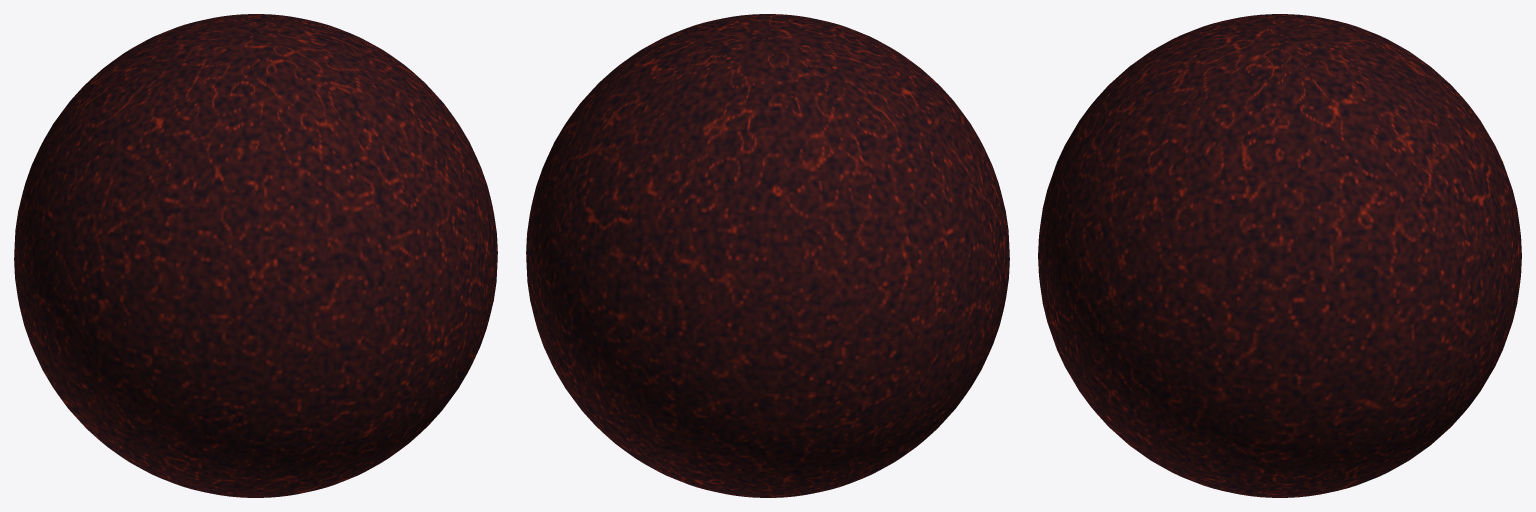
Rendered from planeta-vulcanico.glb.
3 renders of one model, left to right at view 1: azimuth 30°, elevation 25°; view 2: azimuth 150°, elevation 25°; view 3: azimuth 270°, elevation 25°, orthographic.
Visible parts, largest first — view 1: Planeta · vulcanico; view 2: Planeta · vulcanico; view 3: Planeta · vulcanico.
Boxes of the visible parts, box(x1,y1,x2,y2) form: Planeta · vulcanico: box(14, 14, 497, 497); Planeta · vulcanico: box(526, 14, 1009, 497); Planeta · vulcanico: box(1038, 14, 1521, 497).
Bounding box in the file's own units: 2 × 2 × 2.
1 material, 1 textured.
